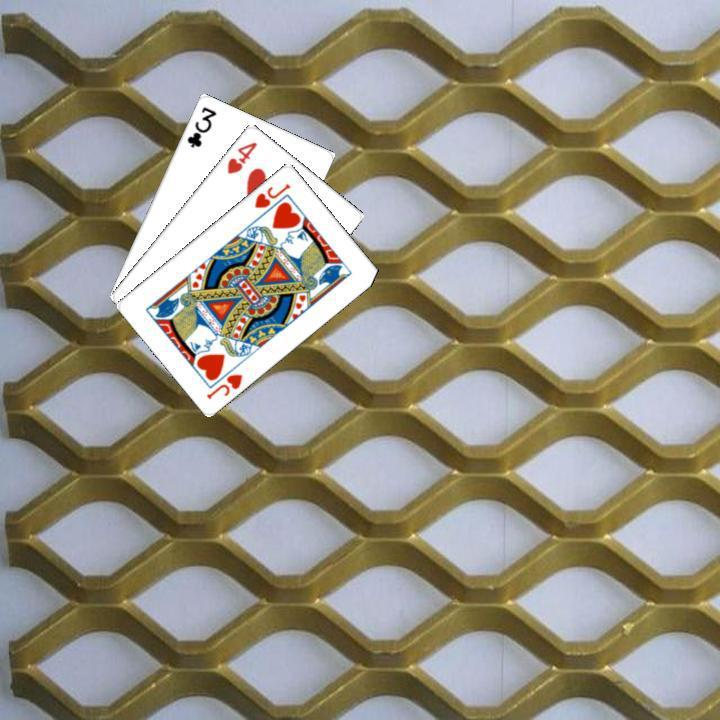3: (182, 102, 218, 149)
4: (222, 137, 259, 176)
J: (250, 178, 293, 210), (202, 369, 245, 401)
